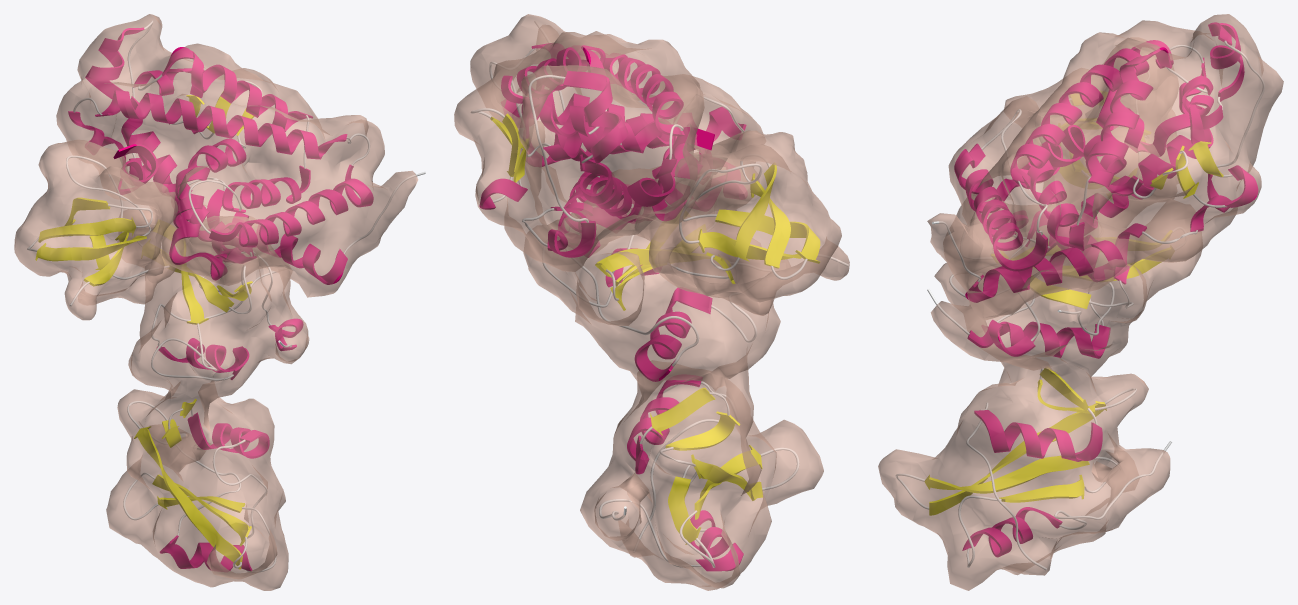
The model's file is Lyn-1.fbx.
3 renders of one model, left to right at view 1: azimuth 30°, elevation 25°; view 2: azimuth 150°, elevation 25°; view 3: azimuth 270°, elevation 25°, orthographic. The views are drawn at different scales.
Parts seen in each view (by area): view 1: CoarseMS_3a40, CoarseMS_4tzi, CoarseMS_1w1f, 3a40_X_Helix12, 3a40_X_Helix11, 3a40_X_Helix9, 3a40_X_Helix6, 3a40_X_Helix4, 3a40_X_Helix1, 4tzi_A_Strand3, 3a40_X_Helix10, 4tzi_A_Helix2 (+14 smaller); view 2: CoarseMS_4tzi, CoarseMS_3a40, CoarseMS_1w1f, 3a40_X_Helix12, 4tzi_B_Helix3, 3a40_X_Helix3, 3a40_X_Helix4, 3a40_X_Helix6, 4tzi_A_Helix2, 3a40_X_Helix11, 3a40_X_Helix14, 3a40_X_Helix9 (+23 smaller); view 3: CoarseMS_3a40, CoarseMS_4tzi, CoarseMS_1w1f, 3a40_X_Helix12, 3a40_X_Helix11, 3a40_X_Helix1, 3a40_X_Helix9, 3a40_X_Helix4, 4tzi_A_Helix2, 3a40_X_Helix10, 3a40_X_Helix6, 4tzi_B_Helix3 (+17 smaller).
Part boxes in pixels (box(x1,y1,x2,y2)): CoarseMS_3a40: box(56, 14, 418, 297); CoarseMS_4tzi: box(106, 210, 309, 590); CoarseMS_1w1f: box(14, 139, 177, 320); 3a40_X_Helix12: box(95, 90, 347, 159); 3a40_X_Helix11: box(209, 164, 373, 247); 3a40_X_Helix9: box(162, 47, 312, 131); 3a40_X_Helix6: box(169, 138, 246, 264); 3a40_X_Helix4: box(121, 96, 244, 261); 3a40_X_Helix1: box(206, 189, 347, 284); 4tzi_A_Strand3: box(134, 426, 242, 569); 3a40_X_Helix10: box(222, 165, 310, 212); 4tzi_A_Helix2: box(187, 412, 269, 458); CoarseMS_4tzi: box(523, 152, 823, 590); CoarseMS_3a40: box(454, 14, 765, 271); CoarseMS_1w1f: box(635, 130, 849, 315); 3a40_X_Helix12: box(531, 43, 684, 136); 4tzi_B_Helix3: box(634, 288, 712, 381); 3a40_X_Helix3: box(563, 71, 628, 163); 3a40_X_Helix4: box(579, 154, 641, 223); 3a40_X_Helix6: box(543, 120, 706, 161); 4tzi_A_Helix2: box(627, 380, 700, 474); 3a40_X_Helix11: box(504, 92, 746, 146); 3a40_X_Helix14: box(647, 127, 714, 220); 3a40_X_Helix9: box(501, 45, 605, 103); CoarseMS_3a40: box(927, 14, 1283, 320); CoarseMS_4tzi: box(878, 193, 1202, 590); CoarseMS_1w1f: box(1004, 38, 1178, 227); 3a40_X_Helix12: box(1010, 40, 1173, 188); 3a40_X_Helix11: box(954, 143, 1047, 271); 3a40_X_Helix1: box(965, 223, 1146, 302); 3a40_X_Helix9: box(1085, 47, 1171, 186); 3a40_X_Helix4: box(1047, 105, 1223, 251); 4tzi_A_Helix2: box(974, 410, 1102, 461); 3a40_X_Helix10: box(1020, 160, 1084, 250); 3a40_X_Helix6: box(1002, 125, 1143, 196); 4tzi_B_Helix3: box(987, 321, 1110, 358).
Size of the model in its own units: 66.86 by 95.13 by 63.11.
